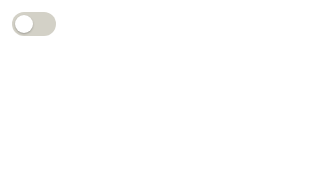
Switch › exposes switch semantics and toggles on click
The image size is (332, 172).
Click the switch named "H-7": click(34, 24) [12,12,56,36]
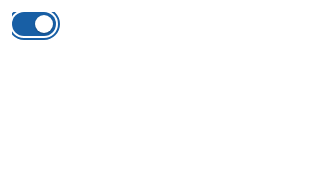
Expected: the switch named "H-7" is checked
Click the switch named "H-7": click(34, 24) [12,12,56,36]
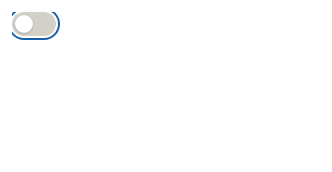
Expected: the switch named "H-7" is not checked, [12,12,56,36]
